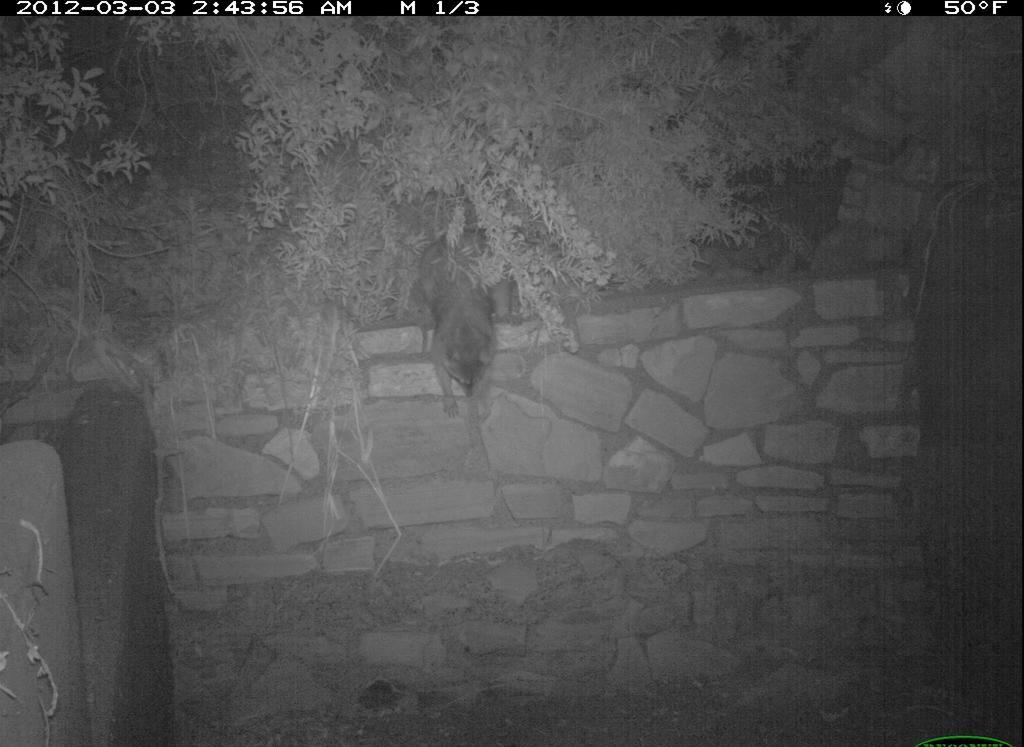raccoon: (395, 222, 528, 425)
